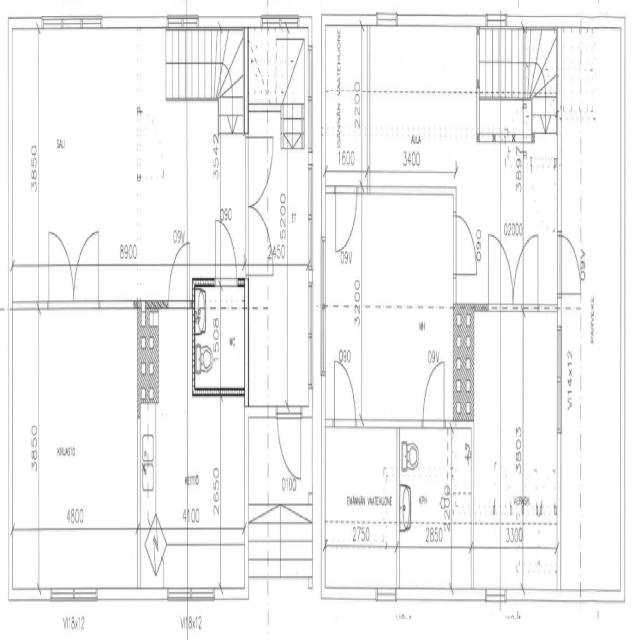door: (45, 220, 78, 312), (244, 125, 276, 212), (274, 398, 304, 486), (72, 220, 101, 310), (530, 146, 559, 235), (137, 101, 167, 187), (512, 227, 540, 311), (419, 353, 448, 434), (487, 230, 516, 311), (332, 179, 359, 261), (452, 206, 480, 282), (556, 227, 584, 302), (332, 354, 358, 432), (166, 238, 191, 310), (247, 201, 271, 271), (216, 215, 238, 282)
window: (31, 305, 43, 435), (554, 320, 565, 440), (96, 285, 137, 316), (43, 9, 88, 36), (71, 579, 100, 607)
zone: (11, 294, 142, 587), (11, 22, 140, 306), (507, 304, 560, 513), (472, 308, 502, 539), (183, 88, 220, 274), (399, 428, 454, 542), (325, 19, 362, 180), (188, 391, 222, 545), (285, 144, 311, 268), (522, 510, 558, 595), (193, 283, 220, 390), (220, 283, 245, 395), (450, 421, 473, 529)
